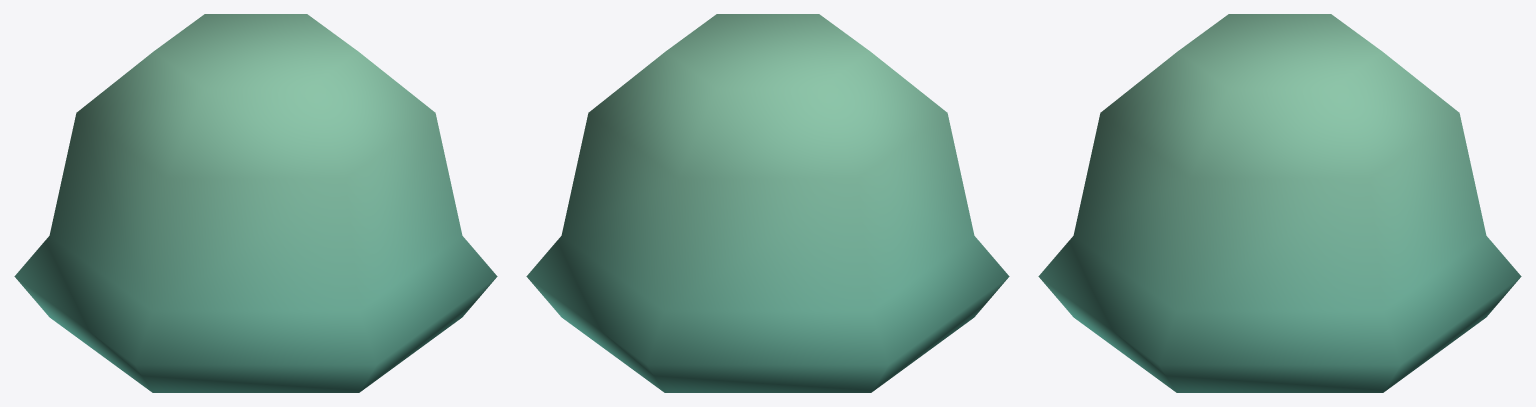
The model's file is ice-cream-scoop-mint.glb.
The picture shows the model from 3 angles, left to right: view 1: azimuth 30°, elevation 25°; view 2: azimuth 150°, elevation 25°; view 3: azimuth 270°, elevation 25°; orthographic projection.
Parts seen in each view (by area): view 1: ice-cream-scoop-mint; view 2: ice-cream-scoop-mint; view 3: ice-cream-scoop-mint.
Boxes of the visible parts, bbox=[...] form: ice-cream-scoop-mint: bbox=[14, 14, 497, 392]; ice-cream-scoop-mint: bbox=[526, 14, 1009, 392]; ice-cream-scoop-mint: bbox=[1038, 14, 1521, 392].
Size of the model in its own units: 0.2352 by 0.165 by 0.2716.
